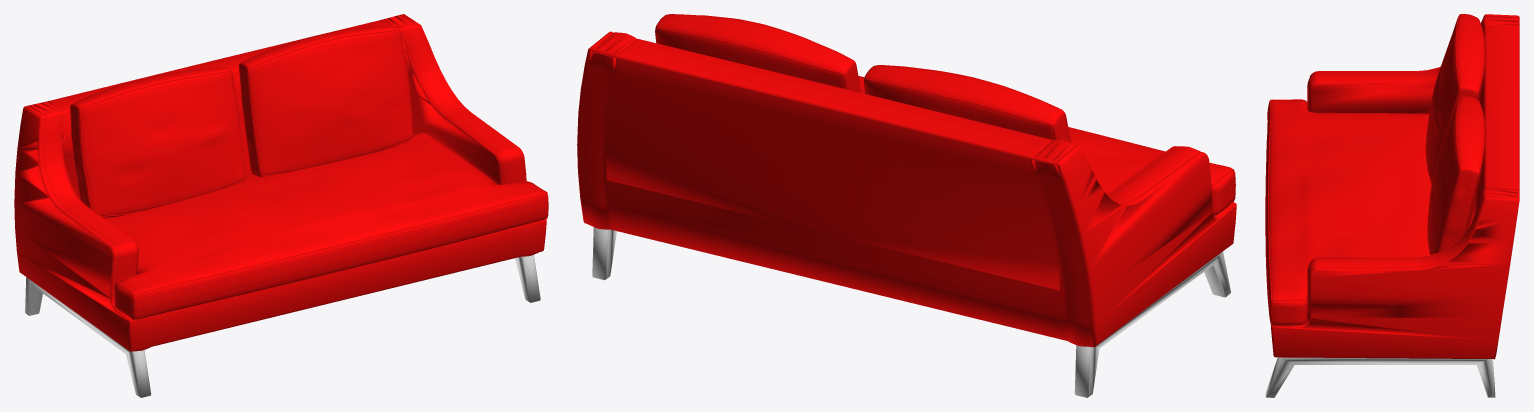
Rendered from chair_09-v2.glb.
The picture shows the model from 3 angles, left to right: view 1: azimuth 30°, elevation 25°; view 2: azimuth 150°, elevation 25°; view 3: azimuth 270°, elevation 25°; orthographic projection. The views are drawn at different scales.
Parts seen in each view (by area): view 1: buffer-0-mesh-0_2_2, buffer-0-mesh-0_1_1, buffer-0-mesh-0_0; view 2: buffer-0-mesh-0_1_1, buffer-0-mesh-0_2_2, buffer-0-mesh-0_0; view 3: buffer-0-mesh-0_1_1, buffer-0-mesh-0_2_2, buffer-0-mesh-0_0.
Boxes of the visible parts, box(x1,y1,x2,y2) form: buffer-0-mesh-0_2_2: box(70, 25, 548, 319); buffer-0-mesh-0_1_1: box(14, 14, 547, 351); buffer-0-mesh-0_0: box(25, 254, 540, 397); buffer-0-mesh-0_1_1: box(577, 14, 1236, 347); buffer-0-mesh-0_2_2: box(655, 14, 1235, 215); buffer-0-mesh-0_0: box(592, 227, 1230, 397); buffer-0-mesh-0_1_1: box(1268, 14, 1519, 359); buffer-0-mesh-0_2_2: box(1265, 14, 1485, 325); buffer-0-mesh-0_0: box(1265, 357, 1495, 397).
Bounding box in the file's own units: 1.63 × 0.8147 × 0.8617.
